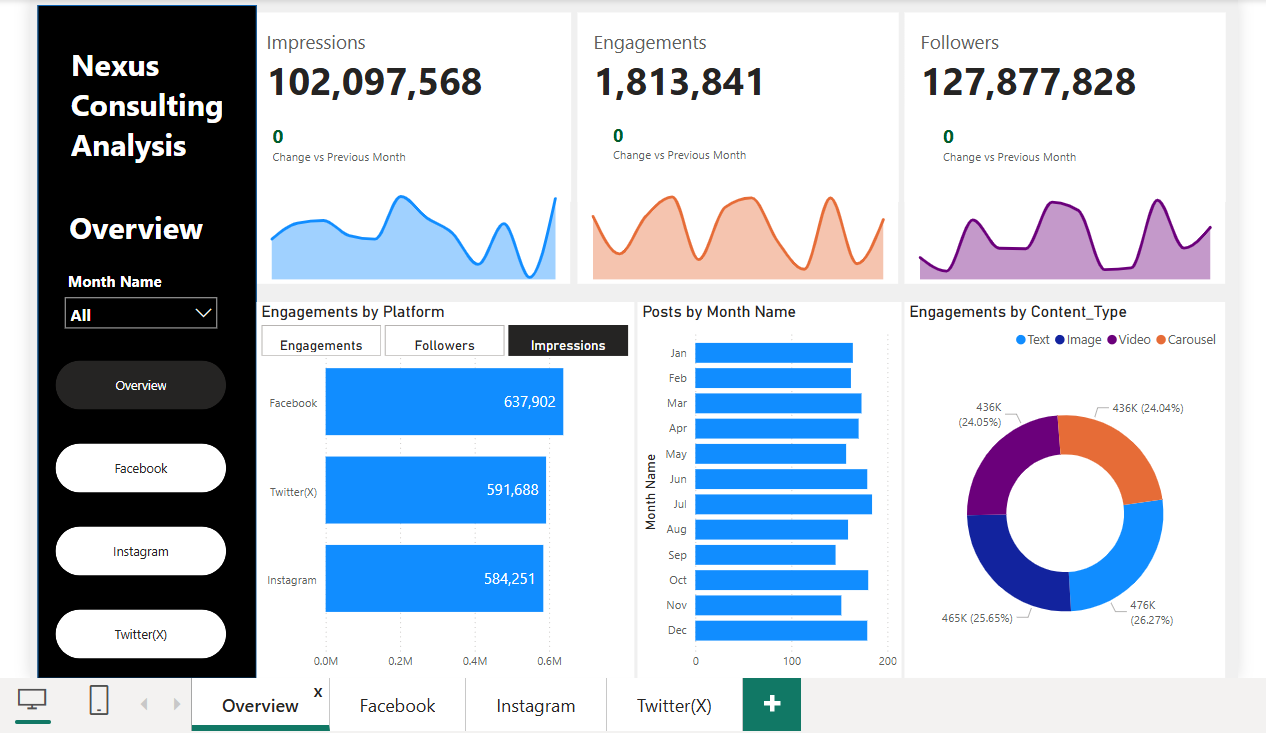

What the dashboard file says about the page in this screenshot:
{"tool":"powerbi","page":{"name":"Overview","canvas":[1280,720],"ordinal":0},"visuals":[{"type":"cardVisual","fields":{"Data":["_Measures.Impressions"]},"box":[233.2,14.3,340,200.8],"z":0},{"type":"cardVisual","fields":{"Data":["_Measures.ImpressionsMOM"]},"box":[240,115.3,183.3,66.1],"z":1000},{"type":"cardVisual","fields":{"Data":["_Measures.Engagements"]},"box":[580.1,14.5,340.4,200.4],"z":2000},{"type":"cardVisual","fields":{"Data":["_Measures.EngagementMOM"]},"box":[600.9,115.3,183.3,66.1],"z":3000},{"type":"cardVisual","fields":{"Data":["_Measures.Followers"]},"box":[927.3,14.5,340.4,200.4],"z":4000},{"type":"areaChart","fields":{"Category":["DateTable.Month Name"],"Y":["_Measures.Impressions"]},"box":[240,181.4,332.6,120.9],"z":5000},{"type":"cardVisual","fields":{"Data":["_Measures.FollowersMOM"]},"box":[950.6,115.3,181.4,66.1],"z":6000},{"type":"areaChart","fields":{"Category":["DateTable.Month Name"],"Y":["_Measures.Engagements"]},"box":[580.2,181.4,340.2,120.9],"z":7000},{"type":"shape","box":[7.6,5.7,232.4,714.3],"z":8000},{"type":"areaChart","fields":{"Category":["DateTable.Month Name"],"Y":["_Measures.Followers"]},"box":[927.9,181.4,340.2,120.9],"z":9000},{"type":"donutChart","fields":{"Category":["SMData.Content_Type"],"Y":["_Measures.Engagements"]},"box":[927.9,321.3,340.2,398.7],"z":10000},{"type":"textbox","box":[35.9,215.4,175.7,58.6],"z":11000},{"type":"slicer","fields":{"Values":["DateTable.Month Name"]},"box":[26.5,283.5,181.4,75.6],"z":12000},{"type":"clusteredBarChart","fields":{"Y":["_Measures.Engagements"],"Category":["SMData.Platform"]},"box":[240,321.3,400.6,398.7],"z":13000},{"type":"advancedSlicerVisual","fields":{"Values":["Parameter.Parameter"]},"box":[240,340.2,400.6,43.5],"z":14000},{"type":"pageNavigator","box":[26.5,383.6,181.4,317.5],"z":15000},{"type":"textbox","box":[37.8,41.6,173.9,145.5],"z":16000},{"type":"clusteredBarChart","fields":{"Category":["DateTable.Month Name"],"Y":["_Measures.Posts"]},"box":[644.4,321.3,279.7,398.7],"z":17000}]}

Visuals, with their boxes on the page's 1280x720 design canvas (x1, y1, x2, y2). These are canvas units, not pixel positions in the 1266x733 screenshot, which may show the page scaled, cropped or inside an application window:
cardVisual - _Measures.Impressions: x1=233 y1=14 x2=573 y2=215
cardVisual - _Measures.ImpressionsMOM: x1=240 y1=115 x2=423 y2=181
cardVisual - _Measures.Engagements: x1=580 y1=14 x2=920 y2=215
cardVisual - _Measures.EngagementMOM: x1=601 y1=115 x2=784 y2=181
cardVisual - _Measures.Followers: x1=927 y1=14 x2=1268 y2=215
areaChart - DateTable.Month Name x _Measures.Impressions: x1=240 y1=181 x2=573 y2=302
cardVisual - _Measures.FollowersMOM: x1=951 y1=115 x2=1132 y2=181
areaChart - DateTable.Month Name x _Measures.Engagements: x1=580 y1=181 x2=920 y2=302
shape: x1=8 y1=6 x2=240 y2=720
areaChart - DateTable.Month Name x _Measures.Followers: x1=928 y1=181 x2=1268 y2=302
donutChart - SMData.Content_Type x _Measures.Engagements: x1=928 y1=321 x2=1268 y2=720
textbox: x1=36 y1=215 x2=212 y2=274
slicer - DateTable.Month Name: x1=26 y1=284 x2=208 y2=359
clusteredBarChart - _Measures.Engagements x SMData.Platform: x1=240 y1=321 x2=641 y2=720
advancedSlicerVisual - Parameter.Parameter: x1=240 y1=340 x2=641 y2=384
pageNavigator: x1=26 y1=384 x2=208 y2=701
textbox: x1=38 y1=42 x2=212 y2=187
clusteredBarChart - DateTable.Month Name x _Measures.Posts: x1=644 y1=321 x2=924 y2=720
